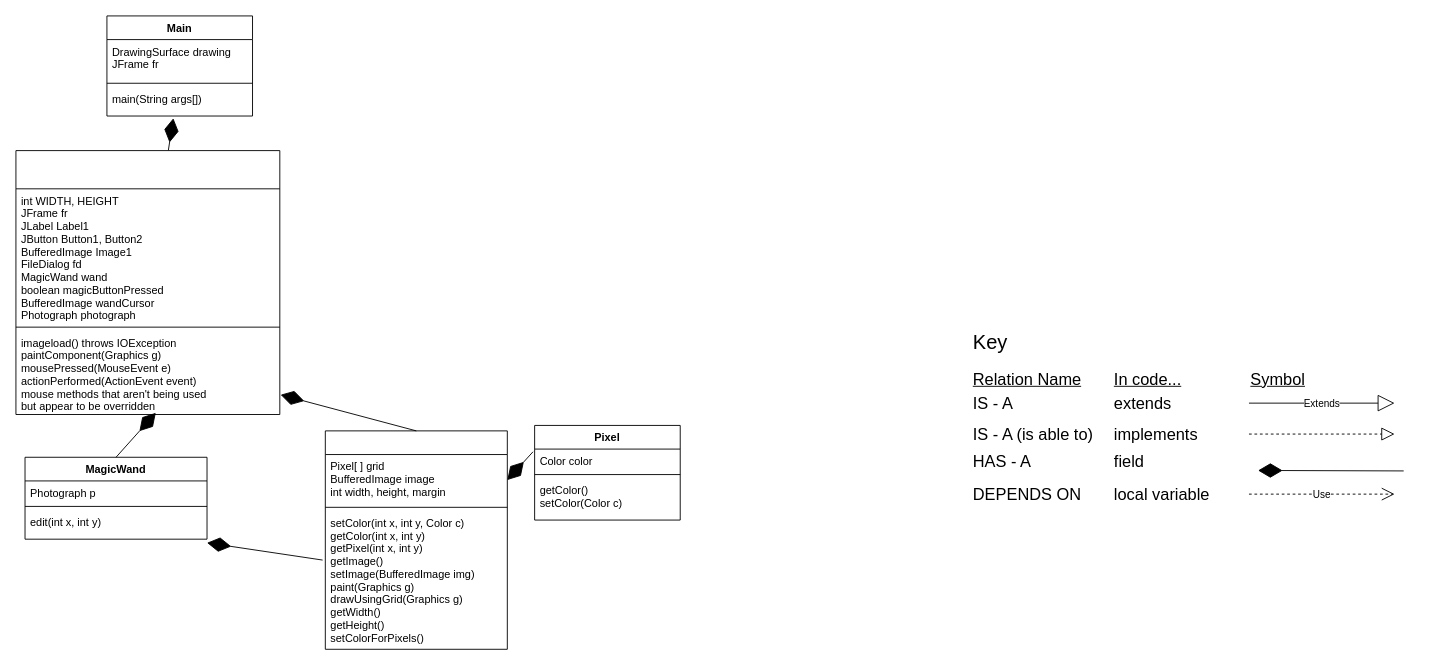
This 1443x668 diagram has some shape labels left out. The shapes that lost their labels are listed below. From the top down, each one's box as (x1, y1, x2, y2) in pixels, then its label:
(15, 150, 280, 415): DrawingSurface extends PApplet implements ActionListener
(324, 430, 507, 649): Photograph extends Canvas
